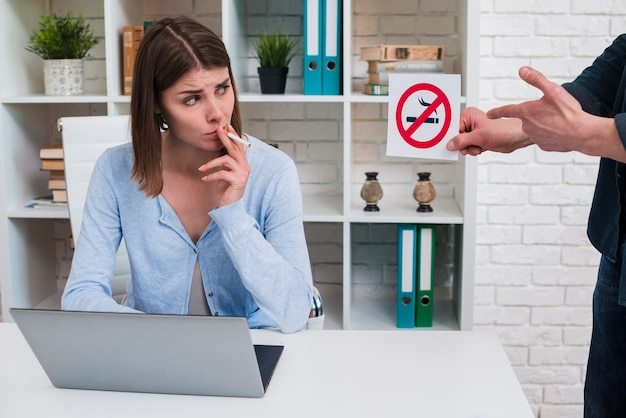cigarette: (221, 129, 250, 147)
